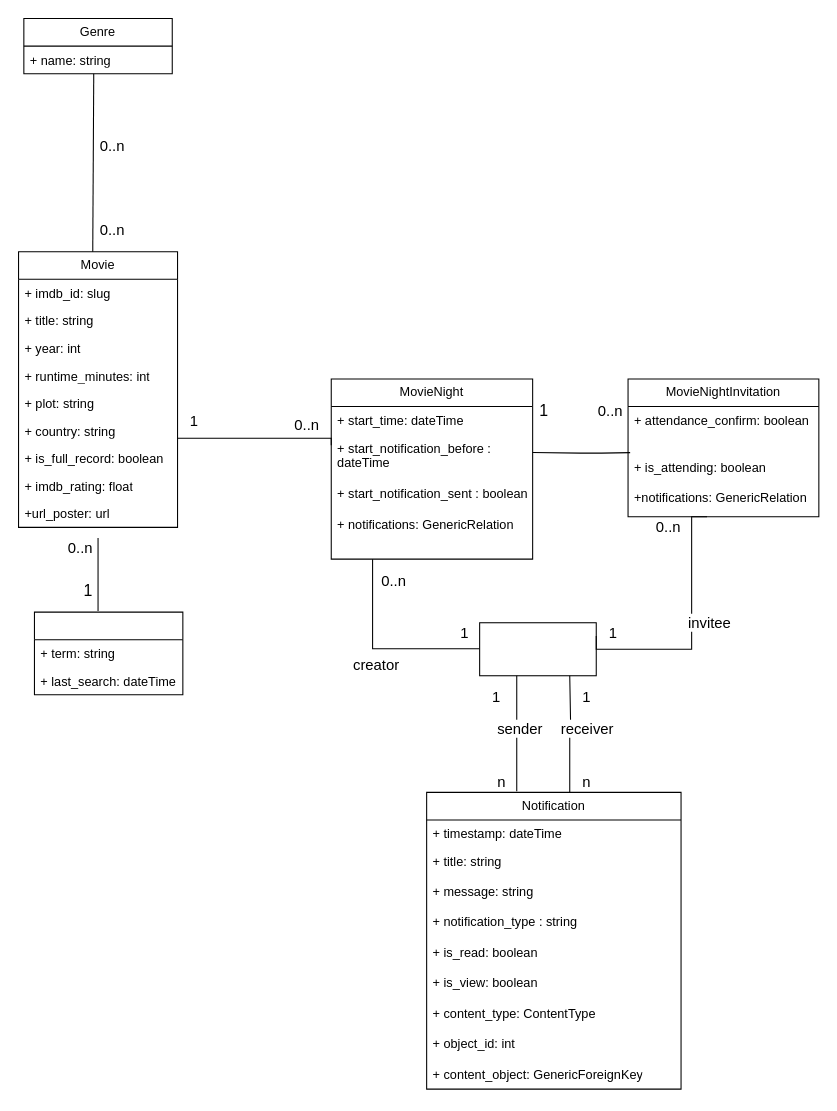
Image size: 837x1111. Some labels were removed from this diagram. The box of each missing label's shape, as (x1, y1, x2, y2) in pixels:
SerchTerm: (33, 611, 183, 695)
User: (479, 622, 596, 676)
